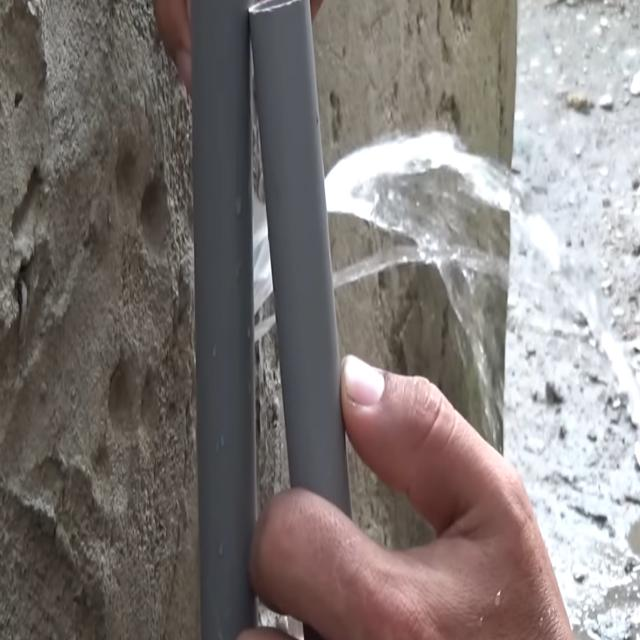leak: (325, 131, 510, 390)
